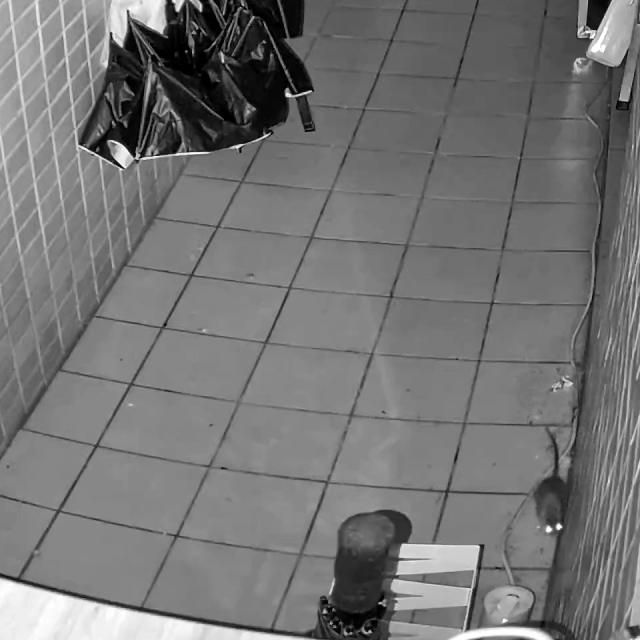rat: (534, 425, 570, 537)
